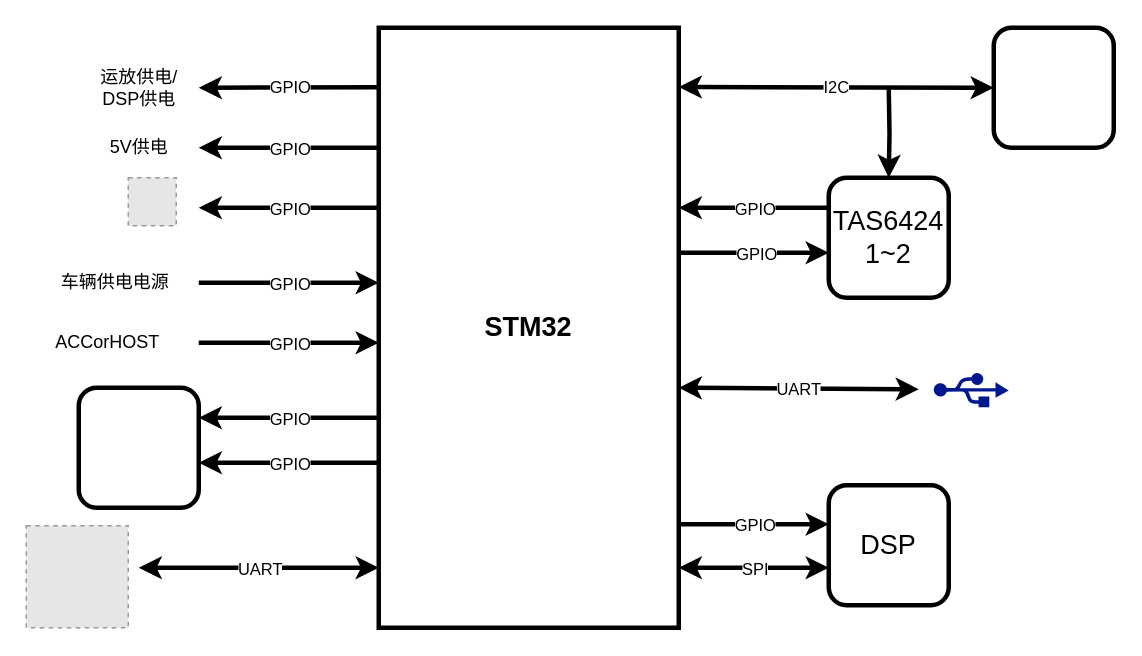
Some shapes in this 1142 by 656 pixel diagram are drawn without their labels. Grey dashed boxes stand in for pictures. Each missing label, with the box of its shape:
EEPROM: (991, 25, 1115, 149)
PDN/ADC: (76, 385, 200, 509)
